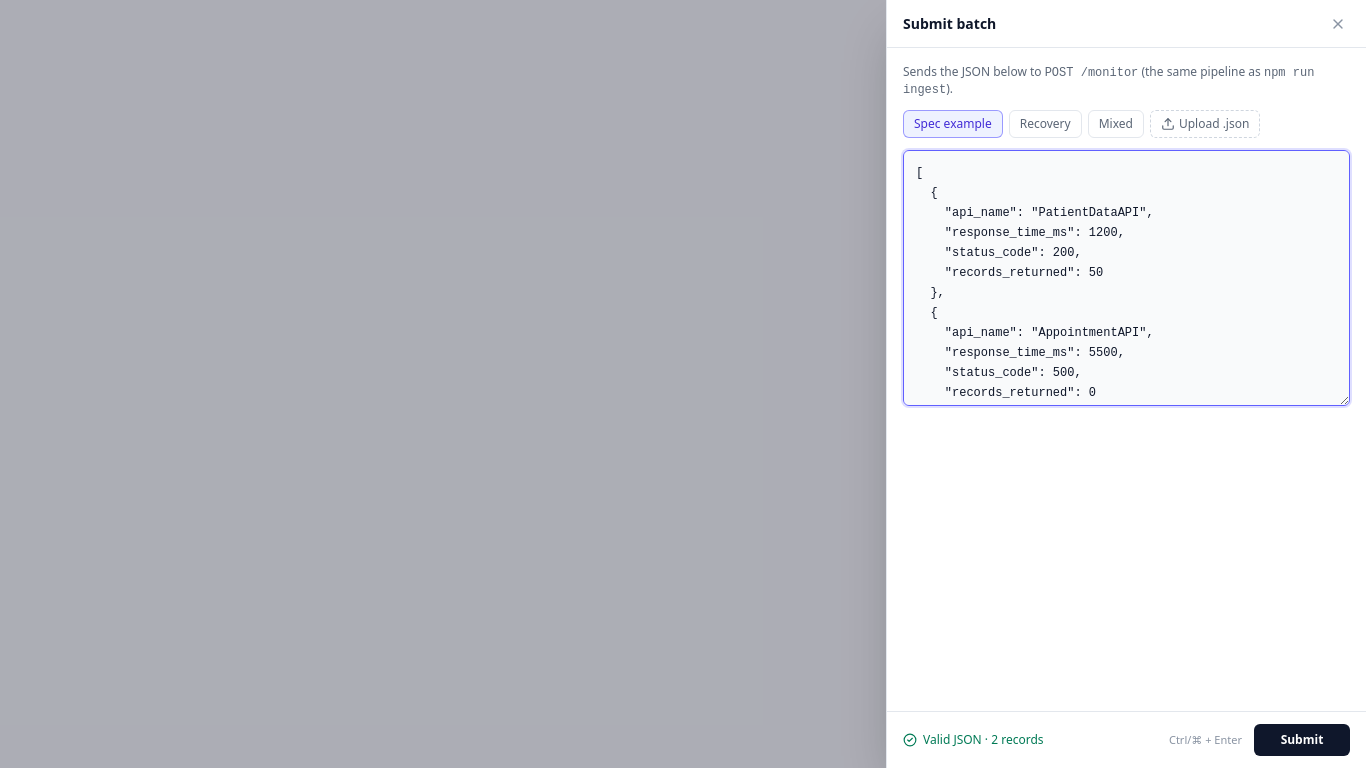
Test: SubmitBatchPanel › loads a sample into the editor
This screenshot has width=1366, height=768.
Step 1. Click the button "Mixed" → click(1116, 124), box [1088,110,1144,138]
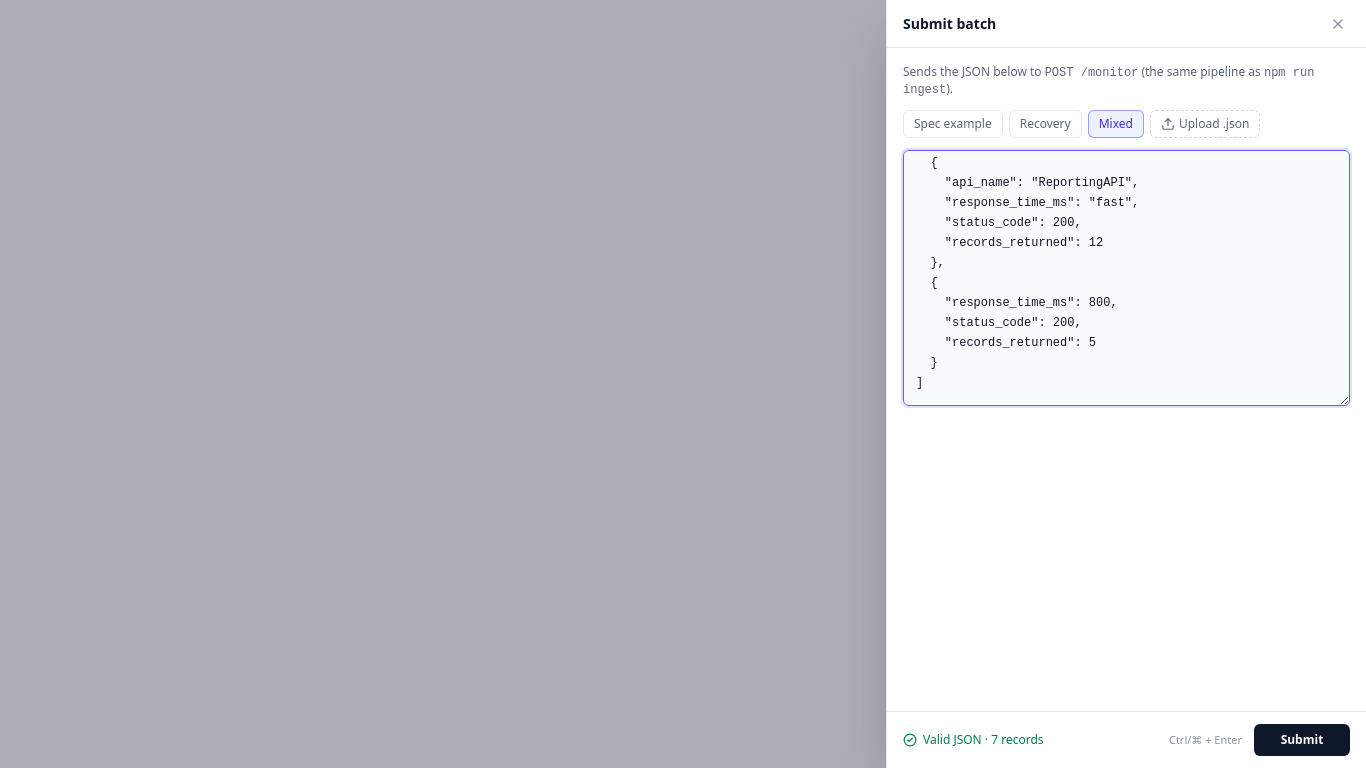
Check: the text "Valid JSON · 7 records" is shown, box [923,732,1044,748]
